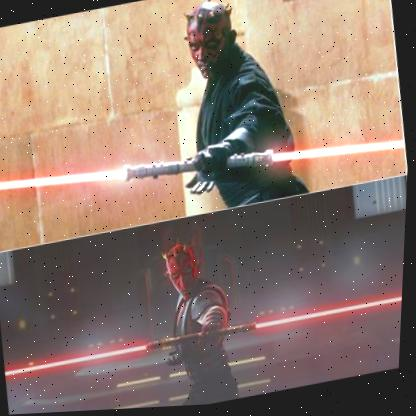sith_lightsaber: (0, 93, 410, 244), (1, 278, 403, 393)
